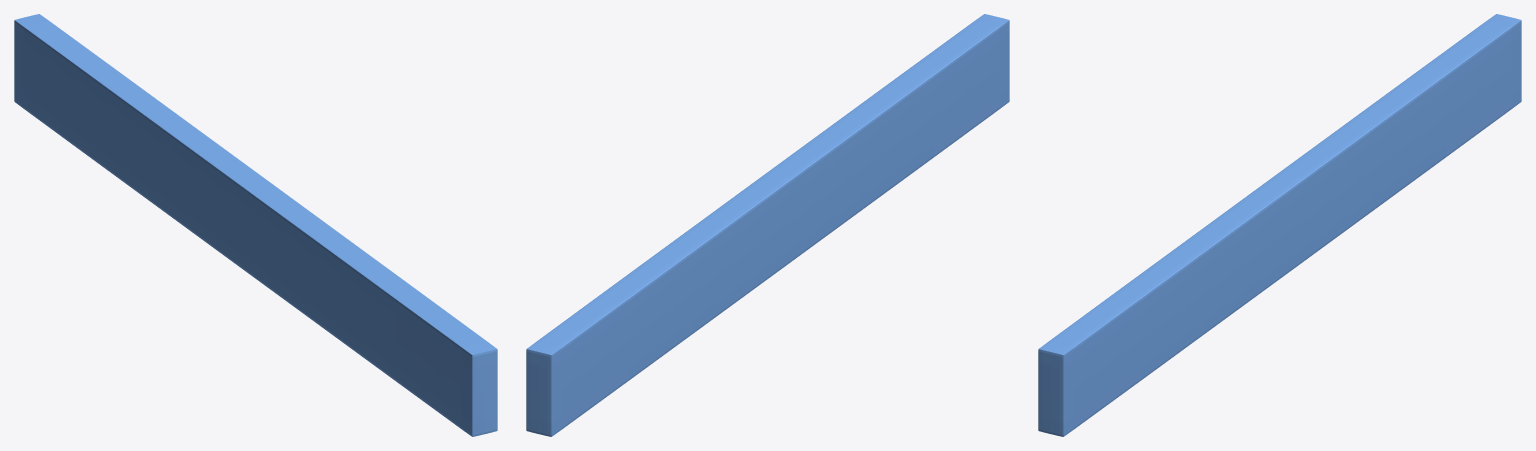
Rendered from Landmark_NinjaBladeRail_Hi_084029.fbx.
3 renders of one model, left to right at view 1: azimuth 30°, elevation 25°; view 2: azimuth 150°, elevation 25°; view 3: azimuth 330°, elevation 25°, orthographic.
Visible parts, largest first — view 1: Cube; view 2: Cube; view 3: Cube.
Boxes of the visible parts, <box> form: Cube: <box>14,14,497,436</box>; Cube: <box>526,14,1009,436</box>; Cube: <box>1038,14,1521,436</box>.
Size of the model in its own units: 0.399 by 1.2 by 12.
